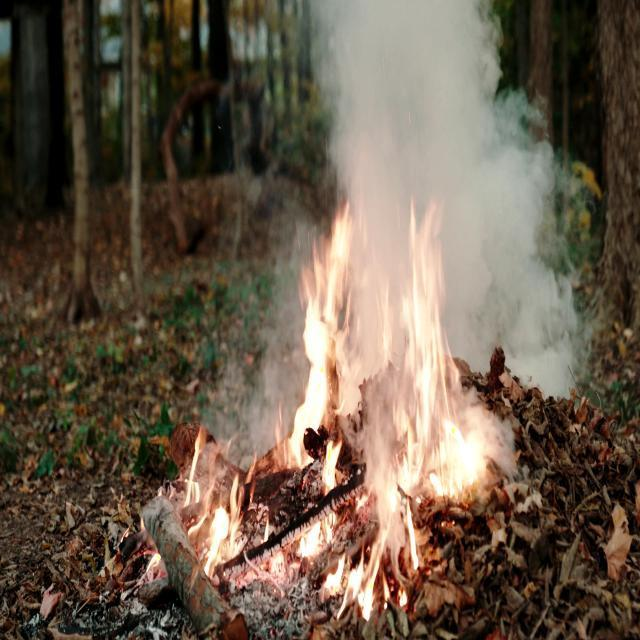Fire: (286, 188, 506, 612), (172, 409, 274, 591)
Smoke: (291, 0, 585, 313)
